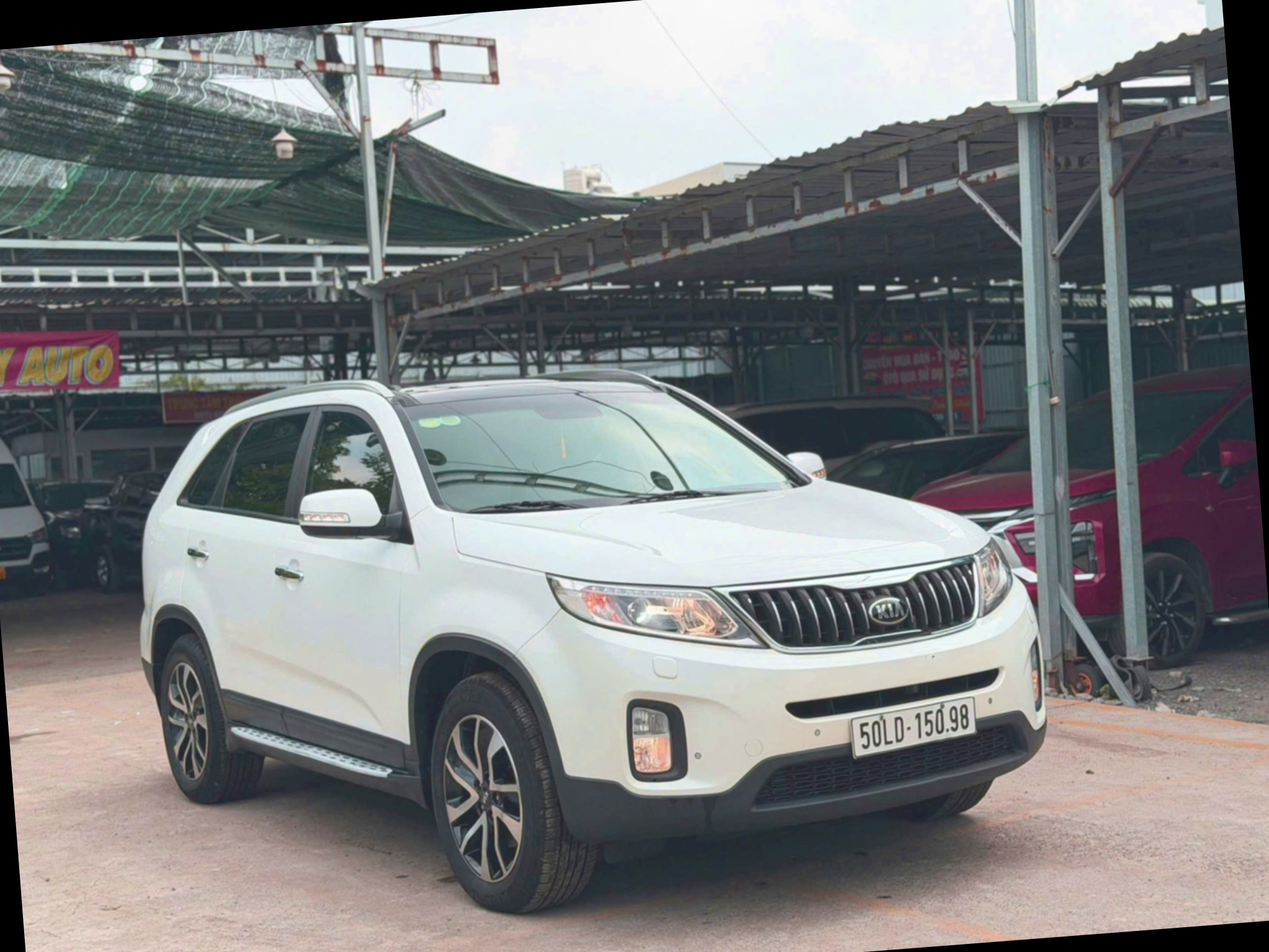Bien-so: (850, 695, 983, 755)
